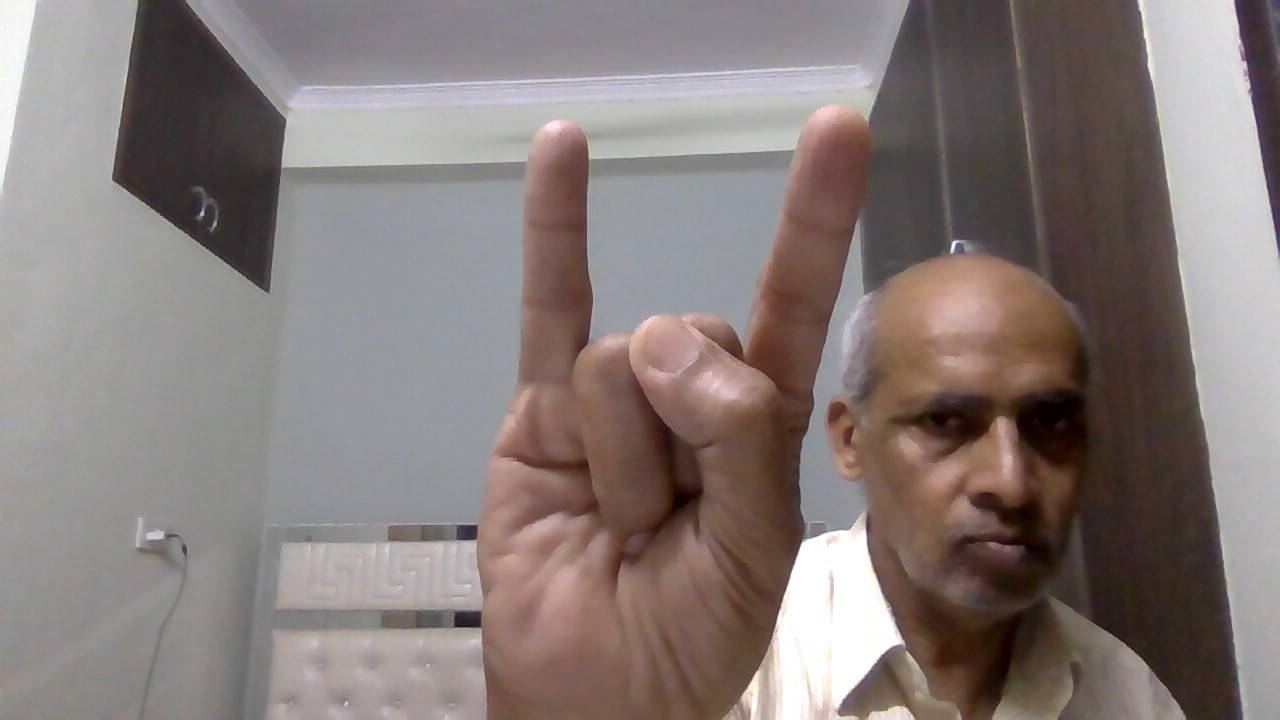Select All: (464, 91, 881, 719)
